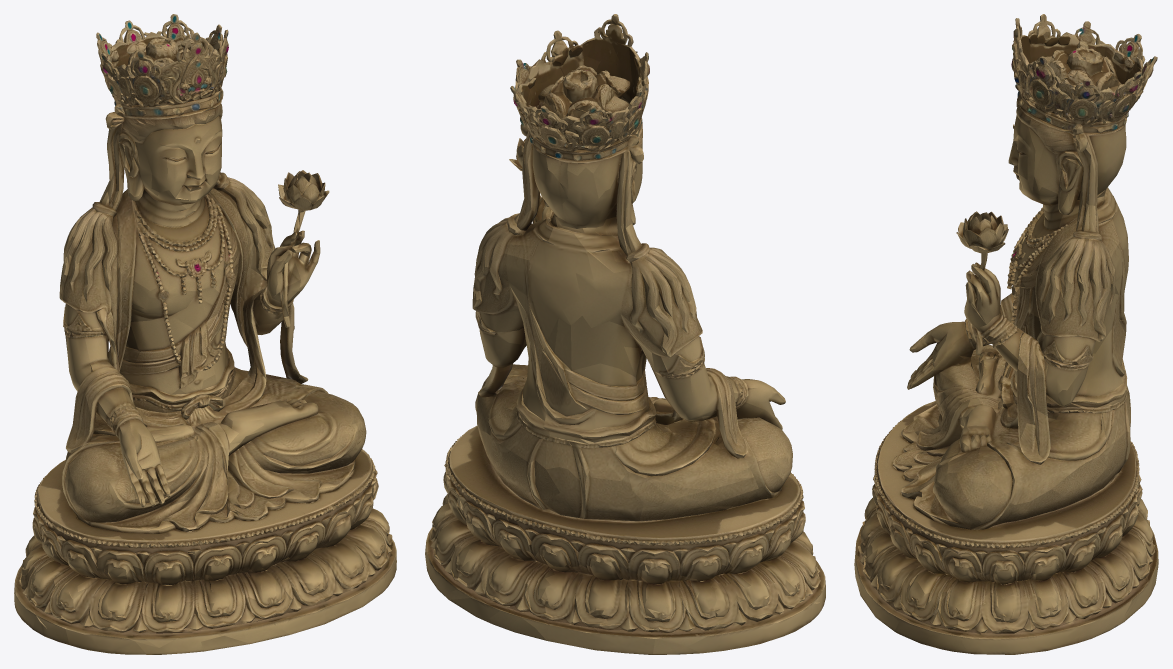
File: Meshy_AI_Korean_style_seated_B_1116074312_texture.glb
3 renders of one model, left to right at view 1: azimuth 30°, elevation 25°; view 2: azimuth 150°, elevation 25°; view 3: azimuth 270°, elevation 25°, orthographic. The views are drawn at different scales.
Parts seen in each view (by area): view 1: output_unwrapped; view 2: output_unwrapped; view 3: output_unwrapped.
Boxes of the visible parts, left/top/right/bottom form: output_unwrapped: left=14, top=14, right=396, bottom=654; output_unwrapped: left=425, top=14, right=825, bottom=654; output_unwrapped: left=854, top=14, right=1158, bottom=654.
Bounding box in the file's own units: 1.27 × 1.9 × 0.9489.
Materials: 1 (1 with a texture image).
